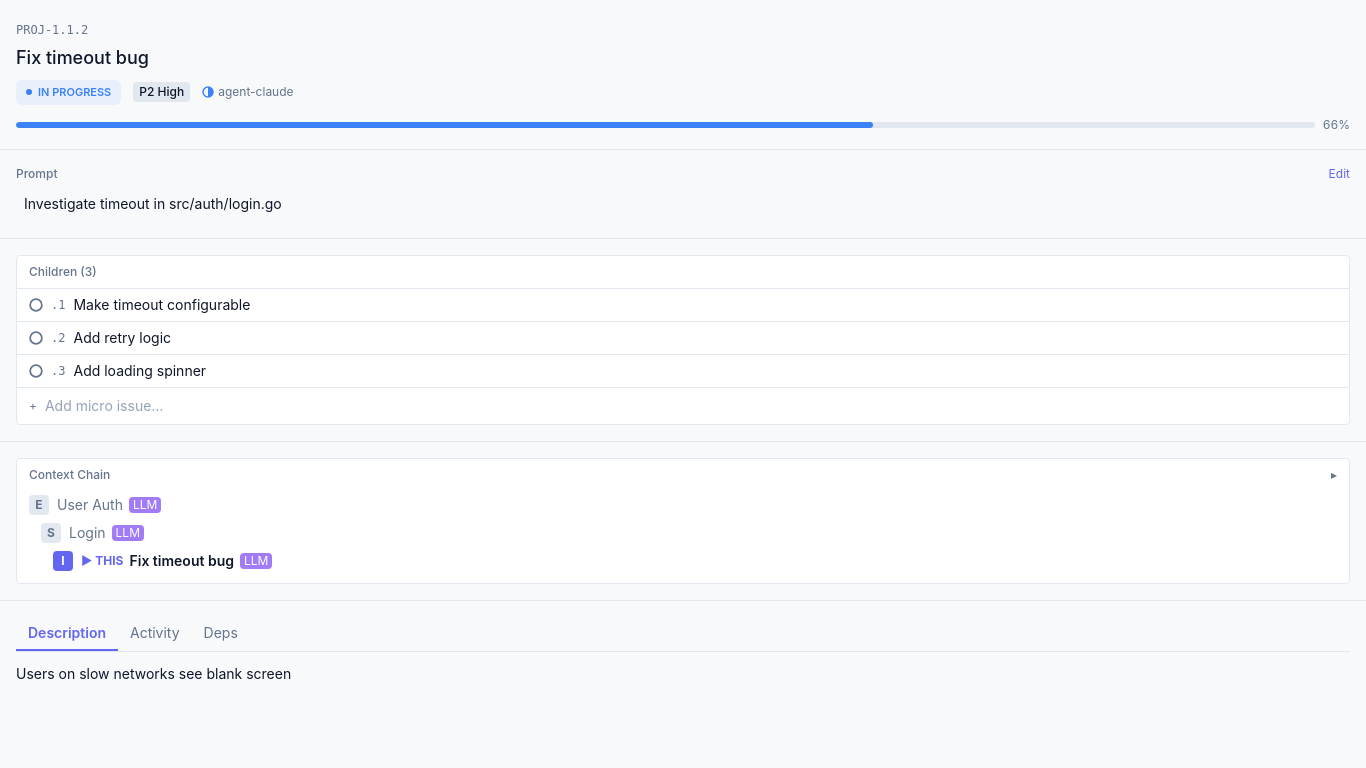
Scenario: NodeDetail › switches to Activity tab
This screenshot has width=1366, height=768.
Click the button with test id "tab-activity" at (155, 634), box [118,616,192,650]
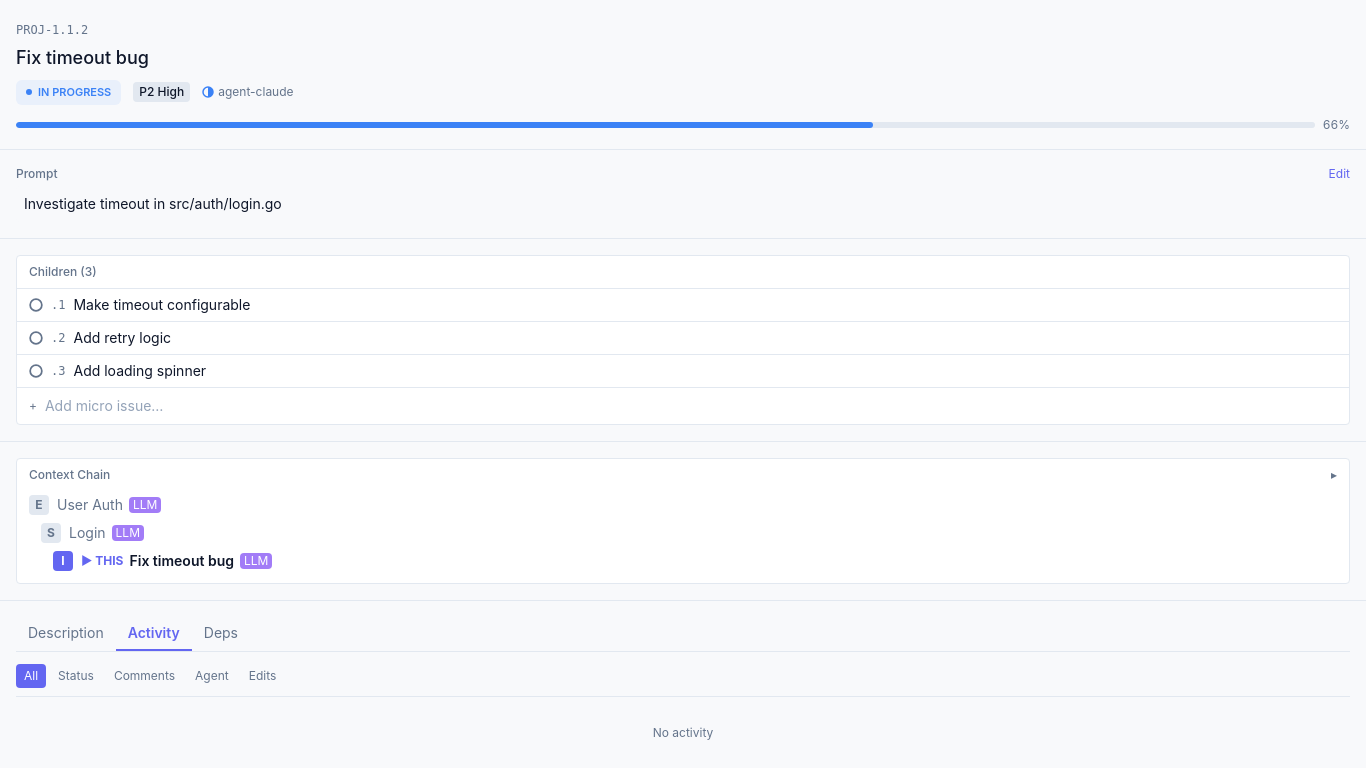
Now the element with test id "activity-stream" is shown, box [16,664,1350,756]
